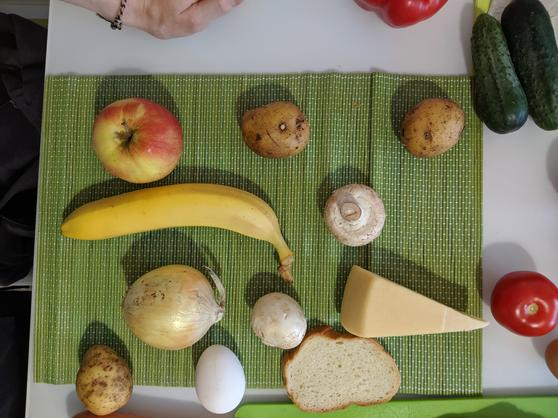banana: (60, 180, 294, 266)
champignon: (324, 181, 386, 245)
cheese: (339, 265, 491, 337)
cucumber: (501, 1, 558, 131), (469, 12, 529, 134)
egg: (195, 344, 246, 414)
onion: (122, 265, 226, 351)
potato: (76, 345, 133, 416), (239, 101, 309, 158), (401, 98, 464, 157)
tomato: (493, 272, 558, 338)
white_bread: (284, 328, 402, 412)
